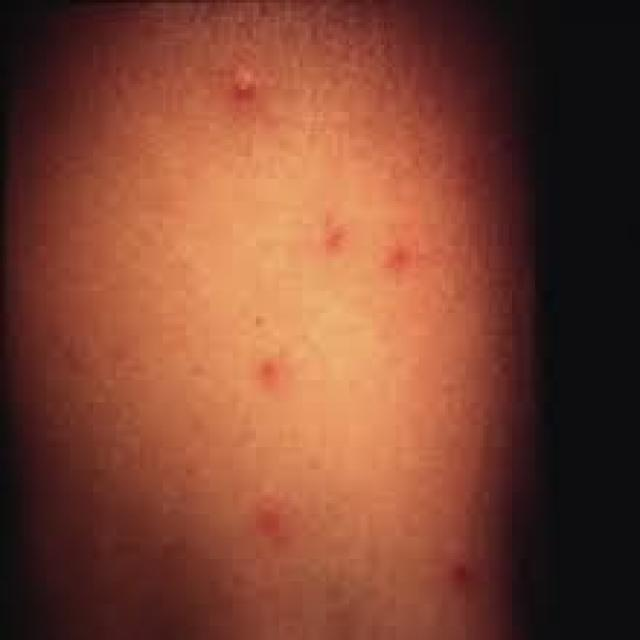kan emici bocekler: (220, 59, 277, 117)
